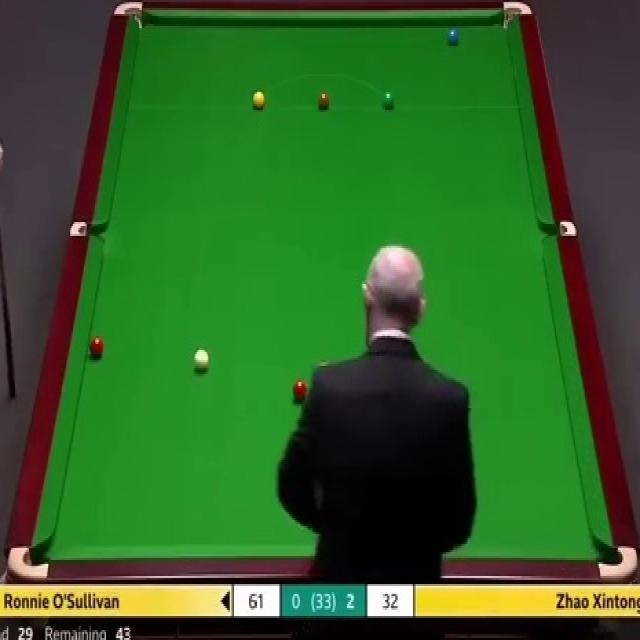blue-ball: (446, 27, 460, 46)
brown-ball: (317, 92, 330, 109)
green-ball: (382, 88, 396, 112)
red-ball: (89, 335, 105, 358), (292, 378, 307, 401)
white-ball: (192, 347, 210, 371)
yellow-ball: (252, 89, 266, 110)
